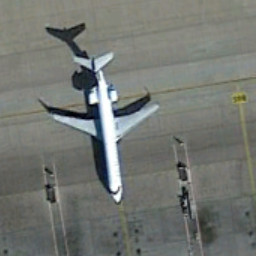Airplane: (41, 39, 165, 207)
